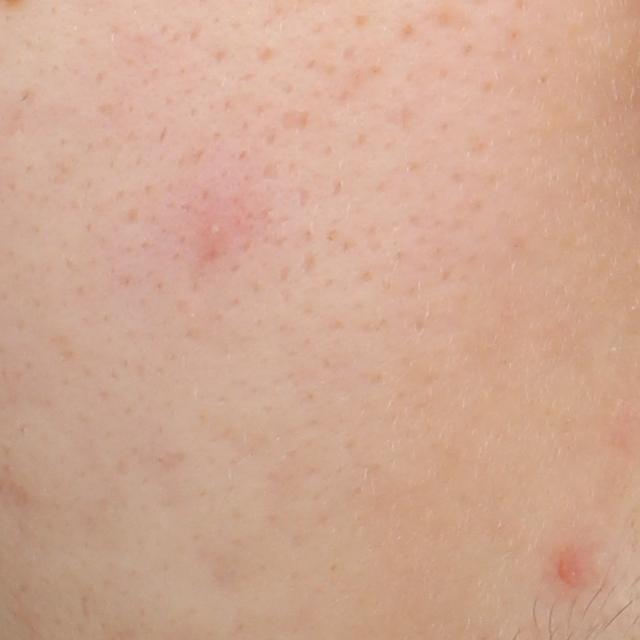papule: (555, 560, 581, 590)
